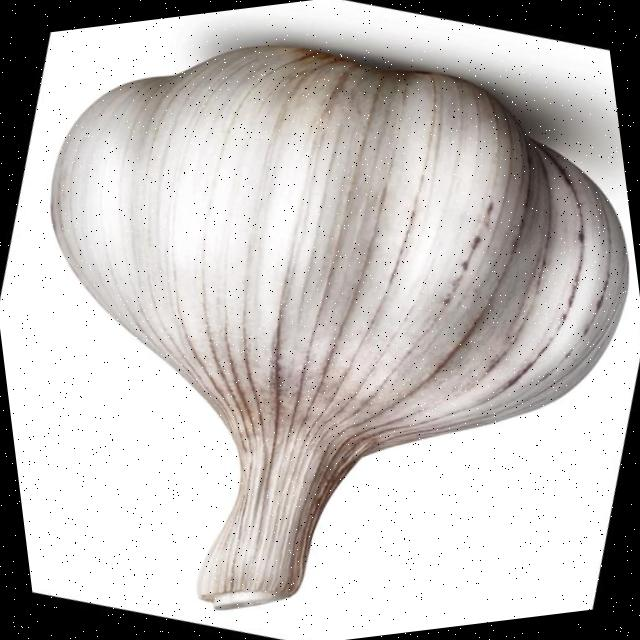garlic: (50, 48, 627, 608)
